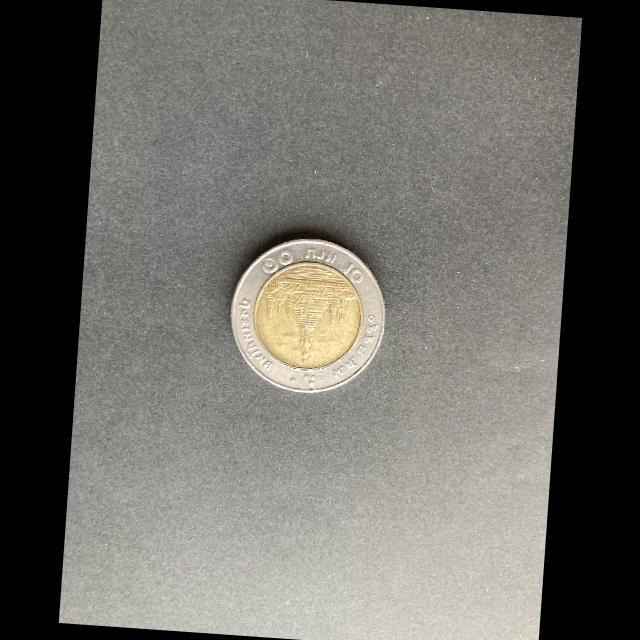10 Bath: (227, 233, 391, 400)
